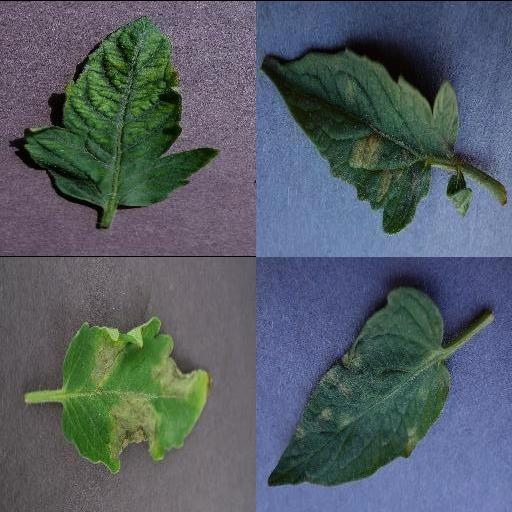Late Blight: (60, 316, 212, 472)
Leaf Mold: (266, 284, 452, 487), (260, 46, 460, 231)
Mosaic Virus: (22, 12, 222, 208)
